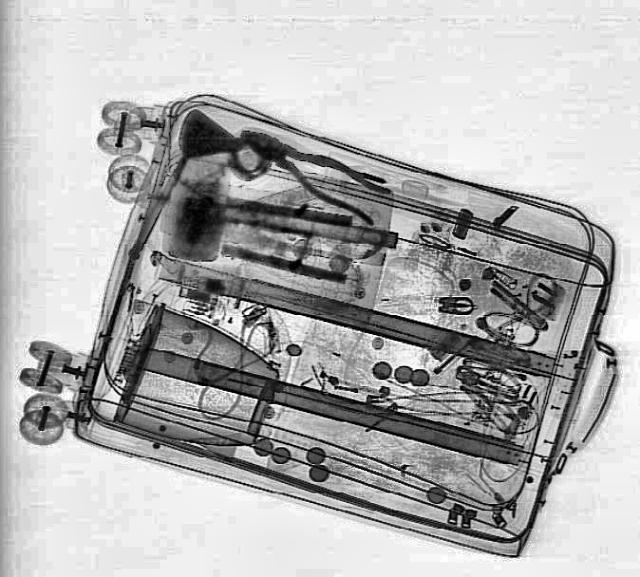Pliers: (228, 116, 398, 226)
